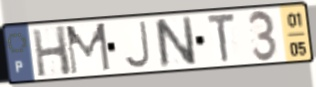3: (247, 8, 279, 64)
H: (30, 24, 74, 79)
J: (122, 19, 152, 70)
M: (64, 21, 113, 77)
N: (152, 14, 199, 71)
T: (205, 11, 238, 66)
